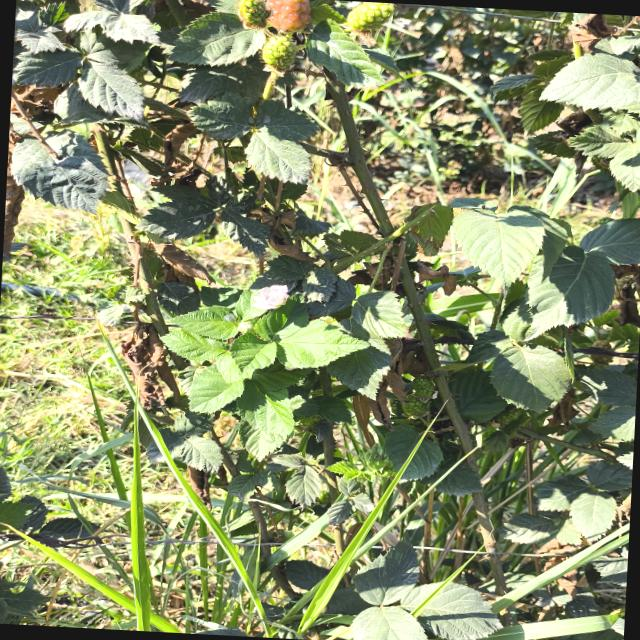boton: (237, 321, 253, 334), (223, 313, 237, 322)
flor: (254, 285, 288, 310)
